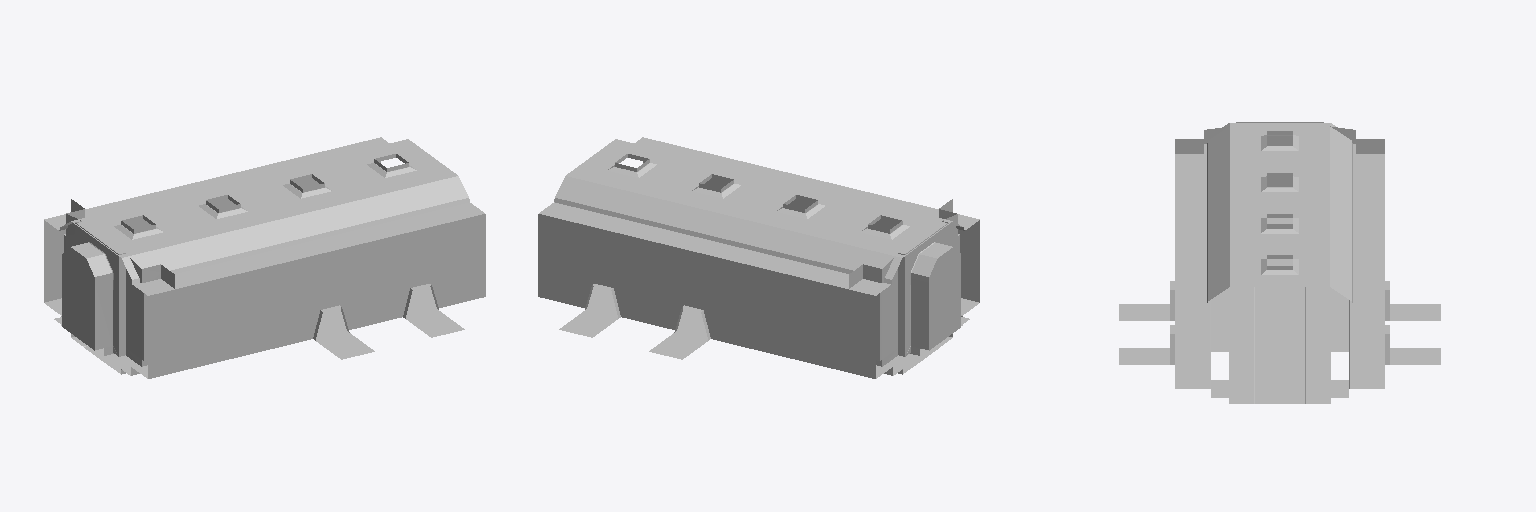
File: Floor-walls-ceiling_egypt.obj
The picture shows the model from 3 angles: view 1: azimuth 30°, elevation 25°; view 2: azimuth 150°, elevation 25°; view 3: azimuth 270°, elevation 25°; orthographic projection.
Parts seen in each view (by area): view 1: MainFloor_walls EgyptTomb_scene_substanceexport, EgyptTomb_scene_substanceexport Ceiling, EgyptTomb_scene_substanceexport RearWall1 RearWall; view 2: MainFloor_walls EgyptTomb_scene_substanceexport, EgyptTomb_scene_substanceexport Ceiling, EgyptTomb_scene_substanceexport RearWall1 RearWall; view 3: MainFloor_walls EgyptTomb_scene_substanceexport, EgyptTomb_scene_substanceexport Ceiling, EgyptTomb_scene_substanceexport RearWall1 RearWall.
Boxes of the visible parts, x1=… form: MainFloor_walls EgyptTomb_scene_substanceexport: x1=44, y1=137, x2=485, y2=378; EgyptTomb_scene_substanceexport Ceiling: x1=62, y1=139, x2=468, y2=279; EgyptTomb_scene_substanceexport RearWall1 RearWall: x1=62, y1=199, x2=174, y2=366; MainFloor_walls EgyptTomb_scene_substanceexport: x1=538, y1=137, x2=979, y2=378; EgyptTomb_scene_substanceexport Ceiling: x1=555, y1=139, x2=961, y2=279; EgyptTomb_scene_substanceexport RearWall1 RearWall: x1=849, y1=199, x2=960, y2=366; MainFloor_walls EgyptTomb_scene_substanceexport: x1=1119, y1=143, x2=1440, y2=403; EgyptTomb_scene_substanceexport Ceiling: x1=1208, y1=123, x2=1351, y2=300; EgyptTomb_scene_substanceexport RearWall1 RearWall: x1=1175, y1=122, x2=1384, y2=182.
Size of the model in its own units: 86.64 by 28.93 by 68.21.